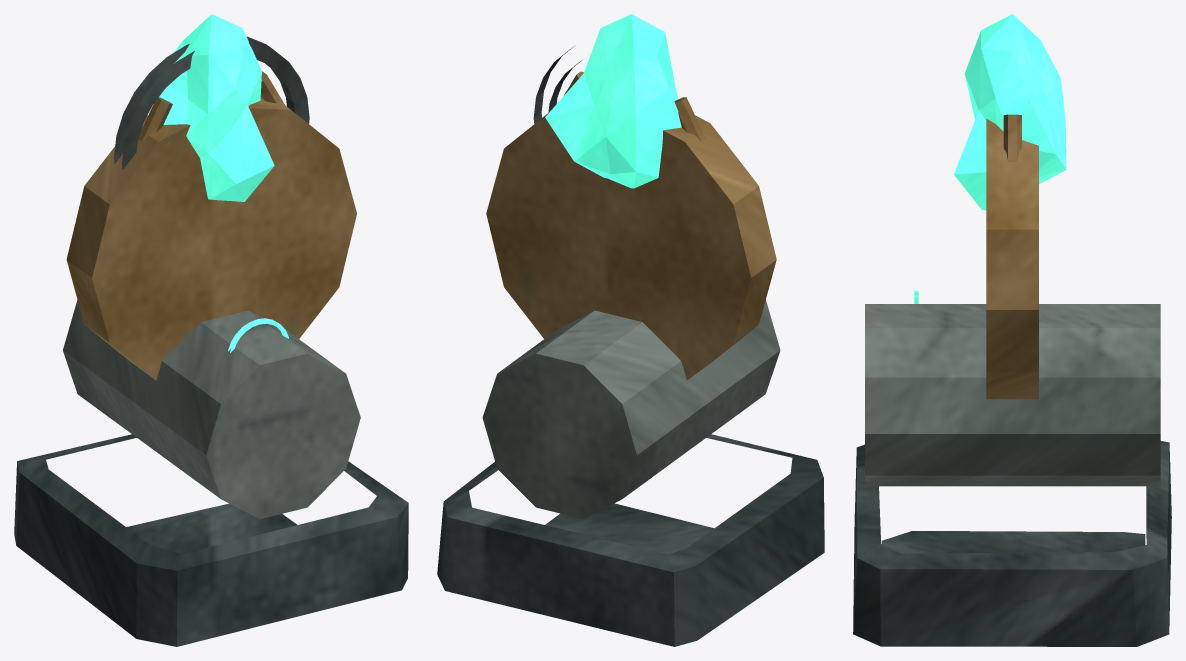
The model's file is 0598_relic_pedestal_23.glb.
The picture shows the model from 3 angles, left to right: view 1: azimuth 30°, elevation 25°; view 2: azimuth 150°, elevation 25°; view 3: azimuth 270°, elevation 25°; orthographic projection. The views are drawn at different scales.
Parts seen in each view (by area): view 1: brass, stone_dark, stone, glow, iron; view 2: brass, stone_dark, stone, glow, iron; view 3: stone, stone_dark, brass, glow.
Part boxes in pixels (left/top/right/bottom): brass: left=66, top=71, right=356, bottom=380; stone_dark: left=14, top=434, right=408, bottom=646; stone: left=63, top=300, right=360, bottom=518; glow: left=159, top=14, right=288, bottom=352; iron: left=114, top=37, right=309, bottom=169; brass: left=486, top=71, right=776, bottom=380; stone_dark: left=437, top=434, right=824, bottom=646; stone: left=482, top=300, right=780, bottom=518; glow: left=545, top=14, right=681, bottom=188; iron: left=533, top=46, right=581, bottom=123; stone: left=865, top=304, right=1160, bottom=486; stone_dark: left=853, top=441, right=1171, bottom=646; brass: left=986, top=114, right=1038, bottom=399; glow: left=914, top=14, right=1066, bottom=303.
Size of the model in its own units: 0.9719 by 1.93 by 0.9704.
Materials: 5 (5 with a texture image).
